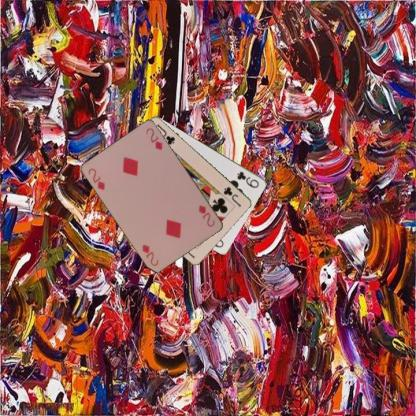2d: (86, 165, 107, 191), (196, 202, 216, 228)
9c: (235, 169, 260, 189)
Jc: (221, 184, 243, 208)
